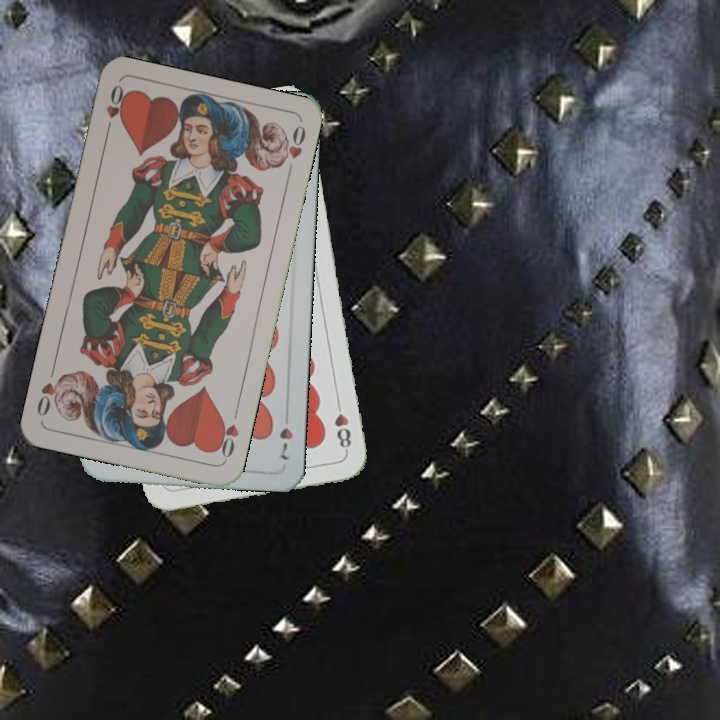H7: (275, 407, 296, 463)
H8: (330, 396, 354, 455)
HO: (211, 404, 241, 463), (101, 80, 129, 139)
